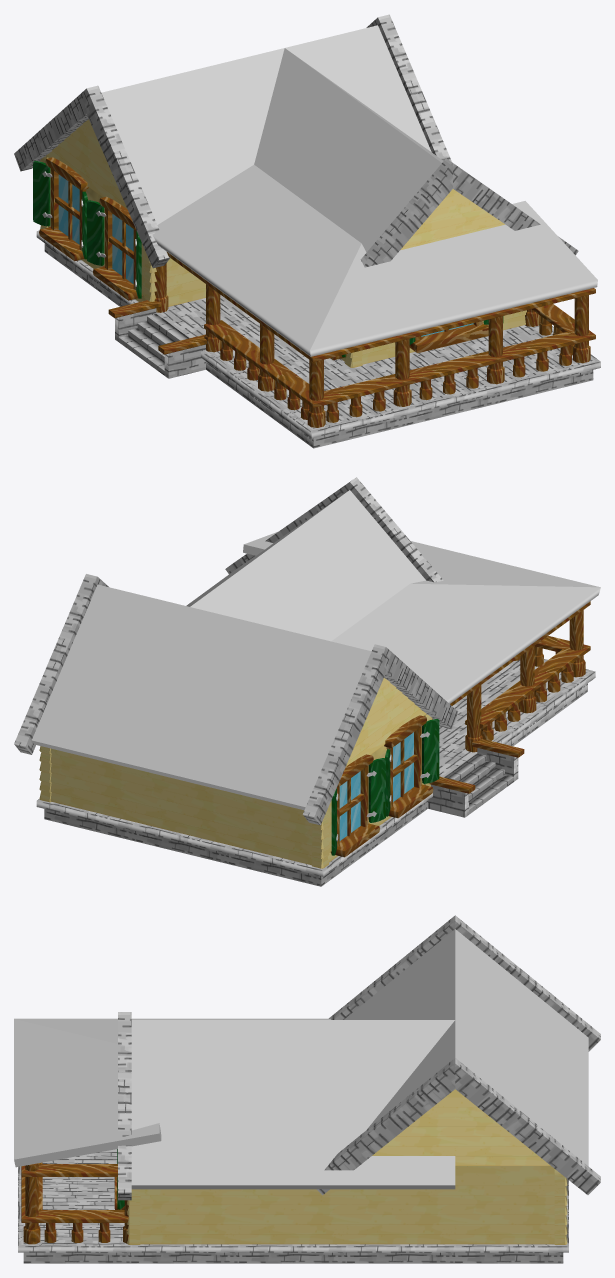
The model's file is Old_House (1).fbx.
3 renders of one model, top to bottom at view 1: azimuth 30°, elevation 25°; view 2: azimuth 150°, elevation 25°; view 3: azimuth 270°, elevation 25°, orthographic.
Parts seen in each view (by area): view 1: pasted__polySurface156, pasted__polySurface227, pasted__polySurface241, pasted__polySurface228, pasted__polySurface151, pasted__polySurface245, pasted__polySurface240, pasted__polySurface230, pCube80, pCube79, pasted__polySurface242, pCube74 (+32 smaller); view 2: pasted__polySurface224, pasted__polySurface225, pasted__polySurface220, pasted__polySurface156, pasted__polySurface241, pasted__polySurface240, pasted__polySurface202, pasted__polySurface203, pasted__polySurface201, pCube79, pCube80, pasted__polySurface151 (+20 smaller); view 3: pasted__polySurface243, pasted__polySurface226, pasted__polySurface229, pasted__polySurface225, pasted__polySurface156, pasted__polySurface204, pasted__polySurface224, pasted__polySurface205, pasted__polySurface206, pasted__polySurface207, pasted__polySurface245, pasted__polySurface220 (+17 smaller).
Part boxes in pixels (x1,y1,x2,y2): pasted__polySurface156: (197,213,504,356); pasted__polySurface227: (86,70,235,268); pasted__polySurface241: (320,127,452,267); pasted__polySurface228: (285,14,451,161); pasted__polySurface151: (152,173,319,274); pasted__polySurface245: (447,201,597,309); pasted__polySurface240: (266,87,391,212); pasted__polySurface230: (192,48,284,175); pCube80: (33,156,98,290); pCube79: (87,194,145,306); pasted__polySurface242: (254,48,338,172); pCube74: (108,300,206,378); pasted__polySurface224: (216,629,386,825); pasted__polySurface225: (14,574,189,766); pasted__polySurface220: (124,607,282,789); pasted__polySurface156: (369,541,600,675); pasted__polySurface241: (297,477,443,613); pasted__polySurface240: (243,529,367,641); pasted__polySurface202: (135,769,228,864); pasted__polySurface203: (44,748,136,841); pasted__polySurface201: (228,792,321,886); pCube79: (374,714,439,847); pCube80: (321,752,385,886); pasted__polySurface151: (331,614,489,703); pasted__polySurface243: (118,1012,239,1200); pasted__polySurface226: (239,1020,347,1189); pasted__polySurface229: (347,1020,455,1189); pasted__polySurface225: (455,1020,600,1194); pasted__polySurface156: (14,1018,239,1113); pasted__polySurface204: (455,1166,563,1263); pasted__polySurface224: (455,915,600,1082); pasted__polySurface205: (347,1189,455,1263); pasted__polySurface206: (239,1189,347,1263); pasted__polySurface207: (131,1189,239,1263); pasted__polySurface245: (14,1095,161,1167); pasted__polySurface220: (455,975,588,1128).
Size of the model in its own units: 1523 by 843 by 2176.
